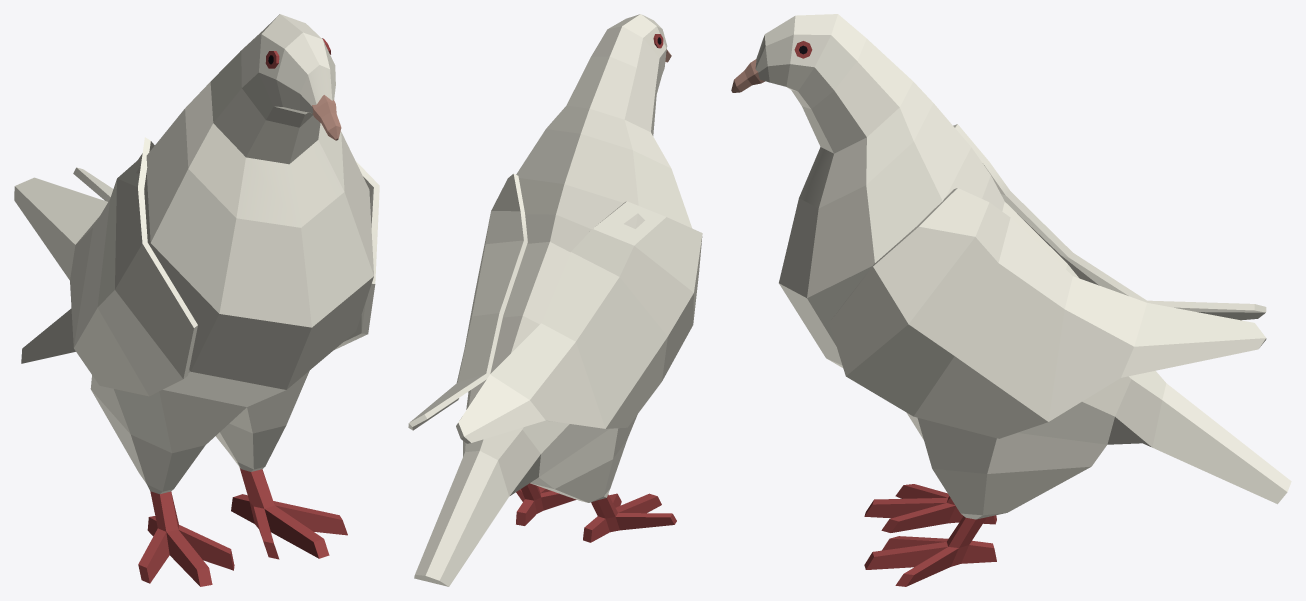
Rendered from 7ef274a4-4d73-4eee-96e4-209ba68a3146.glb.
3 views of the same model, side by side, from view 1: azimuth 30°, elevation 25°; view 2: azimuth 150°, elevation 25°; view 3: azimuth 270°, elevation 25° (orthographic). The views are drawn at different scales.
Visible parts, largest first — view 1: Geo_Dove; view 2: Geo_Dove; view 3: Geo_Dove.
Part boxes in pixels (left/top/right/bottom): Geo_Dove: left=14, top=14, right=379, bottom=586; Geo_Dove: left=408, top=14, right=702, bottom=586; Geo_Dove: left=731, top=14, right=1291, bottom=586.
Bounding box in the file's own units: 44.83 × 95.74 × 92.27.
1 material, 1 textured.
